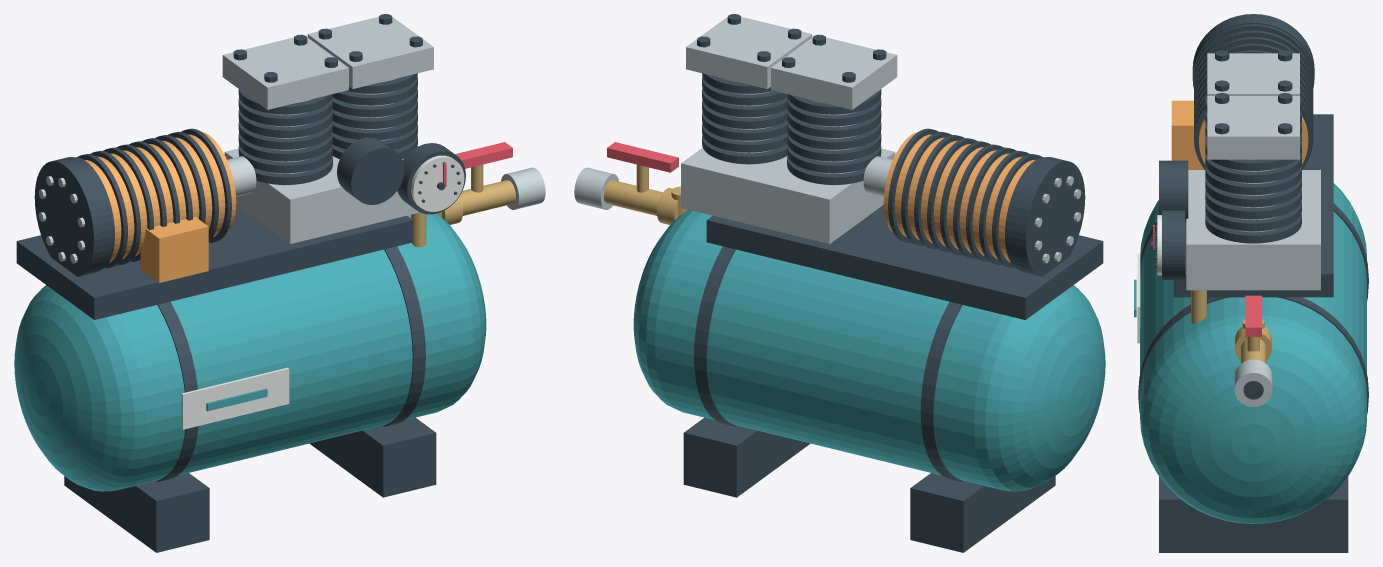
Rendered from compressor.glb.
3 views of the same model, side by side, from view 1: azimuth 30°, elevation 25°; view 2: azimuth 150°, elevation 25°; view 3: azimuth 270°, elevation 25° (orthographic). The views are drawn at different scales.
Size of the model in its own units: 1.41 by 1.13 by 0.558.
